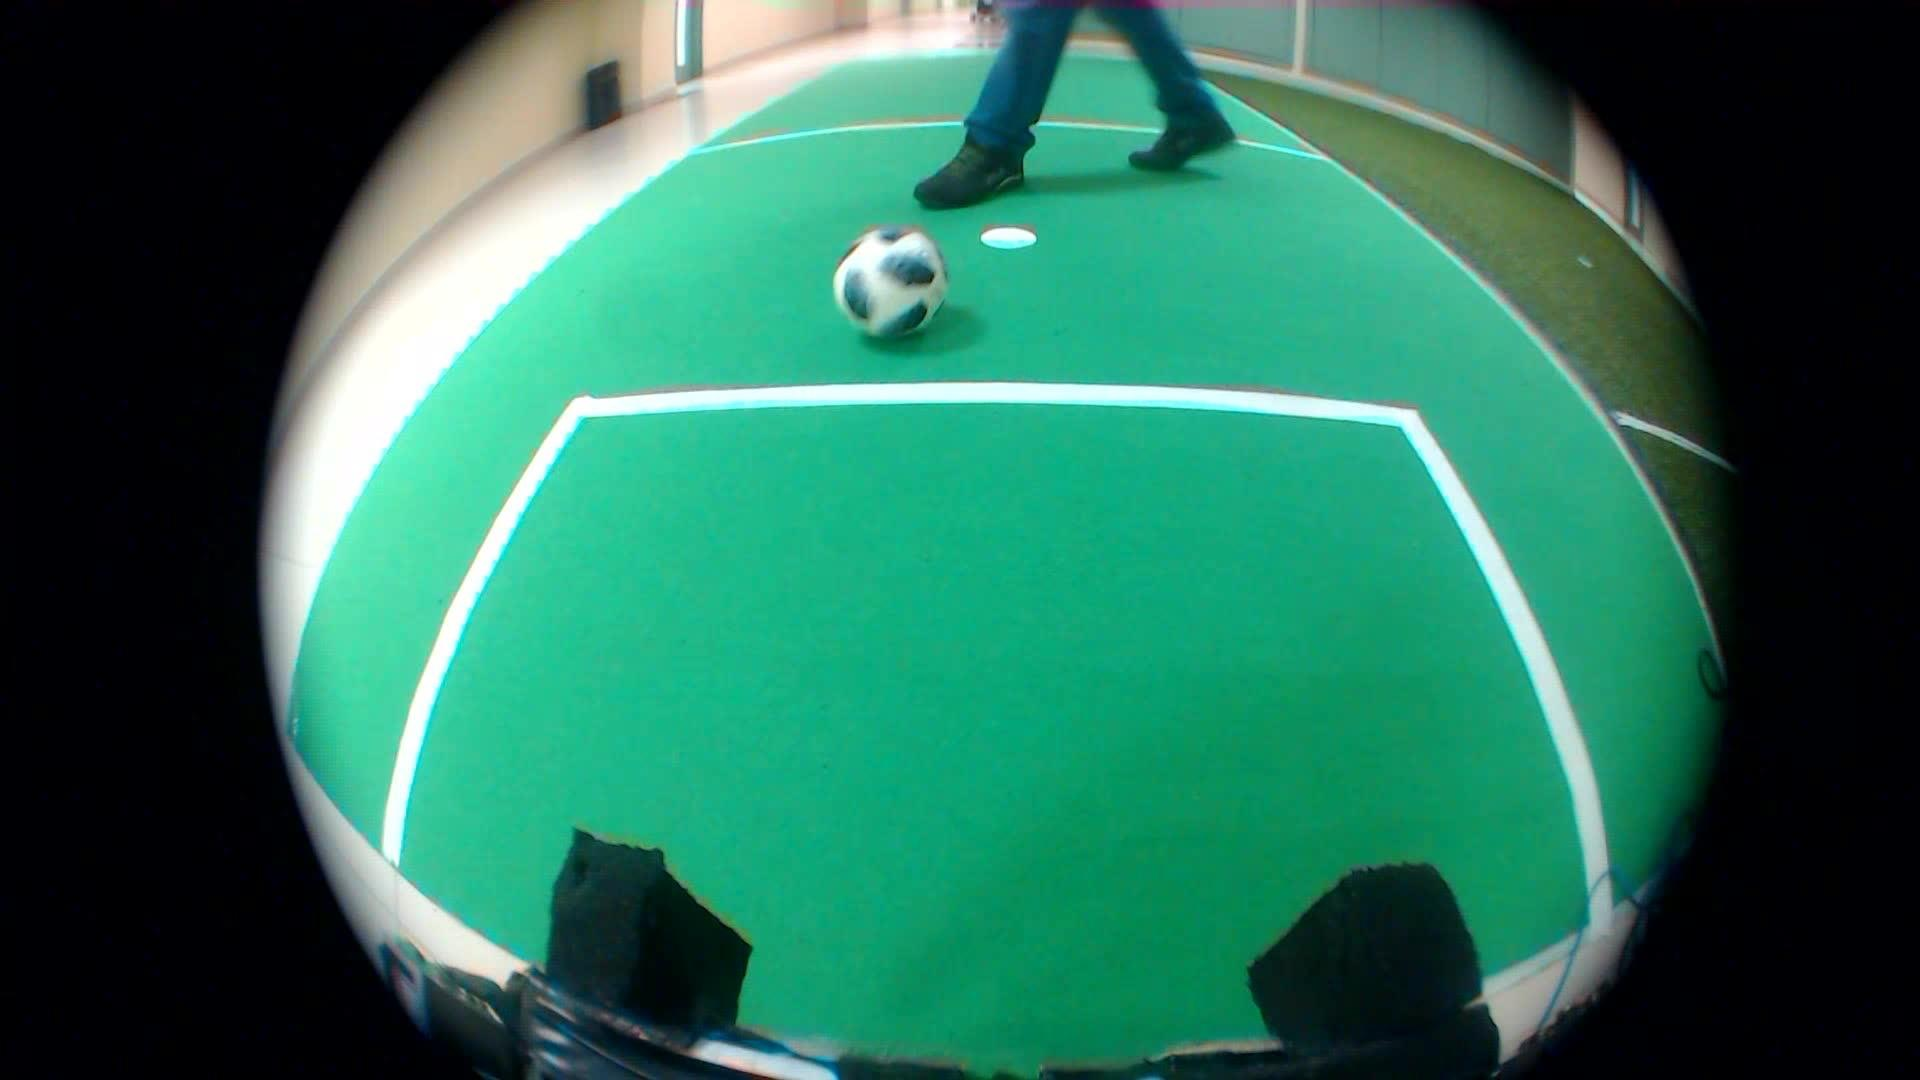ball: (819, 212, 965, 353)
